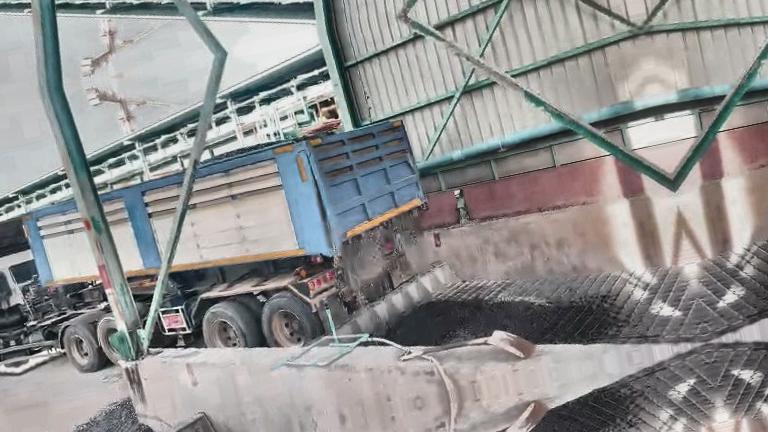gravel: (336, 215, 418, 312), (45, 399, 152, 432)
